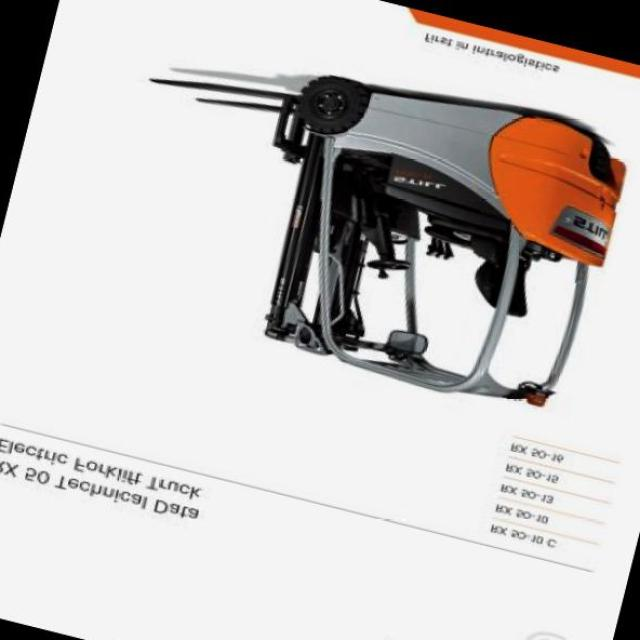forklift: (209, 40, 640, 437)
